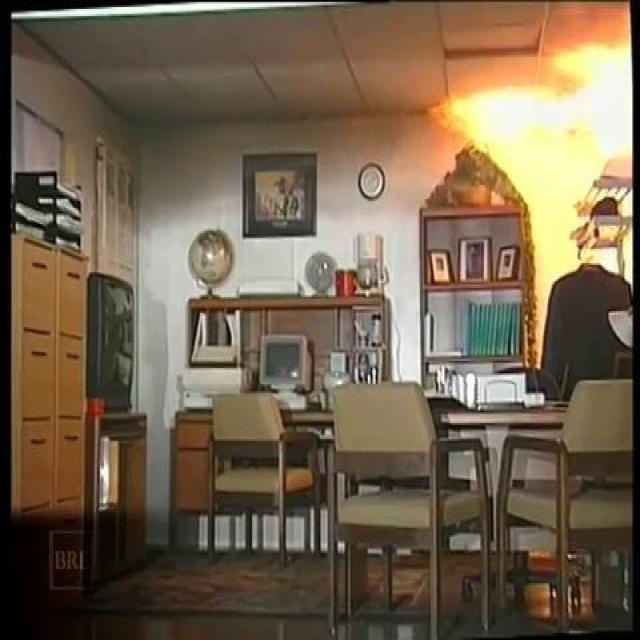fire: (457, 71, 640, 147)
